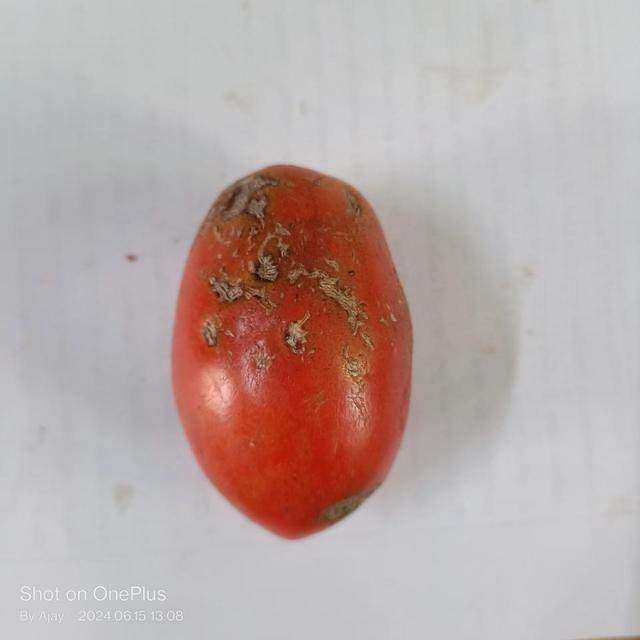Bacterial Spot Fruit: (14, 22, 235, 224)
